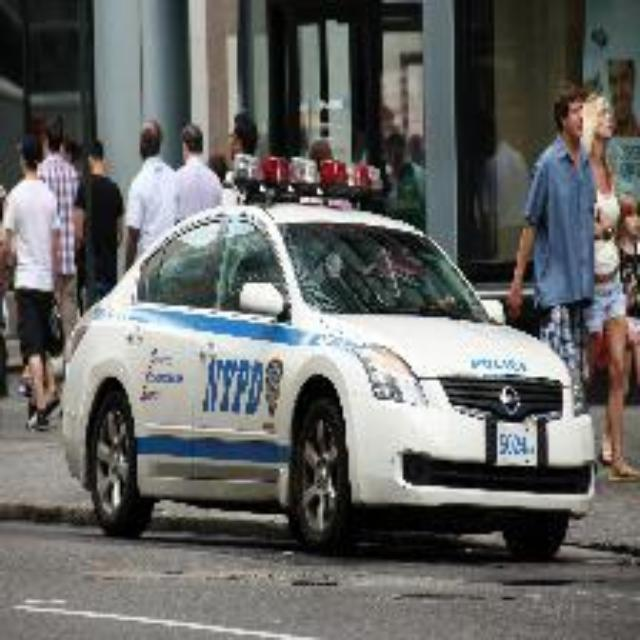emergency: (41, 170, 578, 558)
